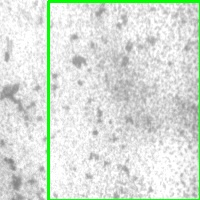pitted_surface: (48, 1, 200, 200), (1, 75, 45, 200)
